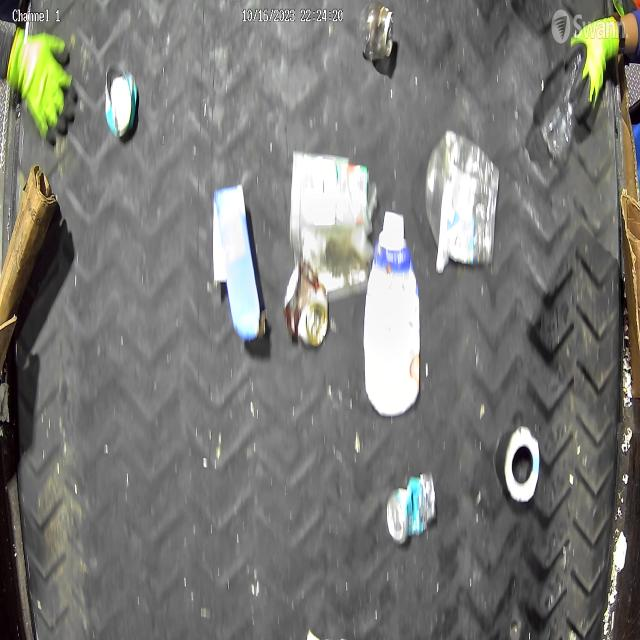can: (386, 470, 436, 546), (284, 260, 328, 346), (106, 69, 140, 141)
